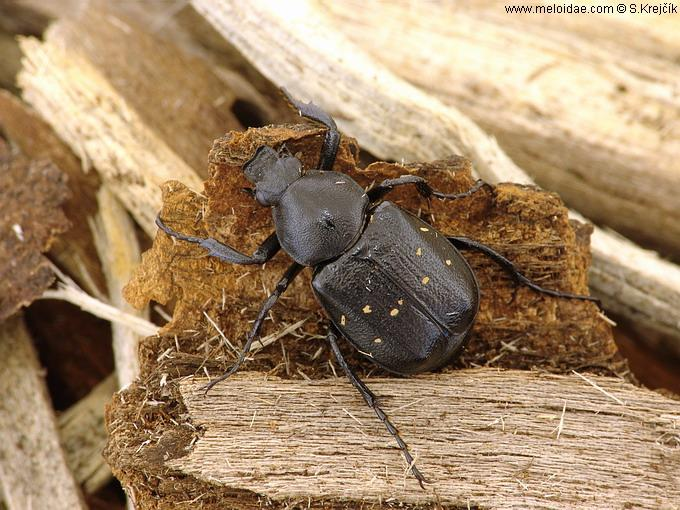Gnorimus_variabilis: (143, 79, 607, 504)
